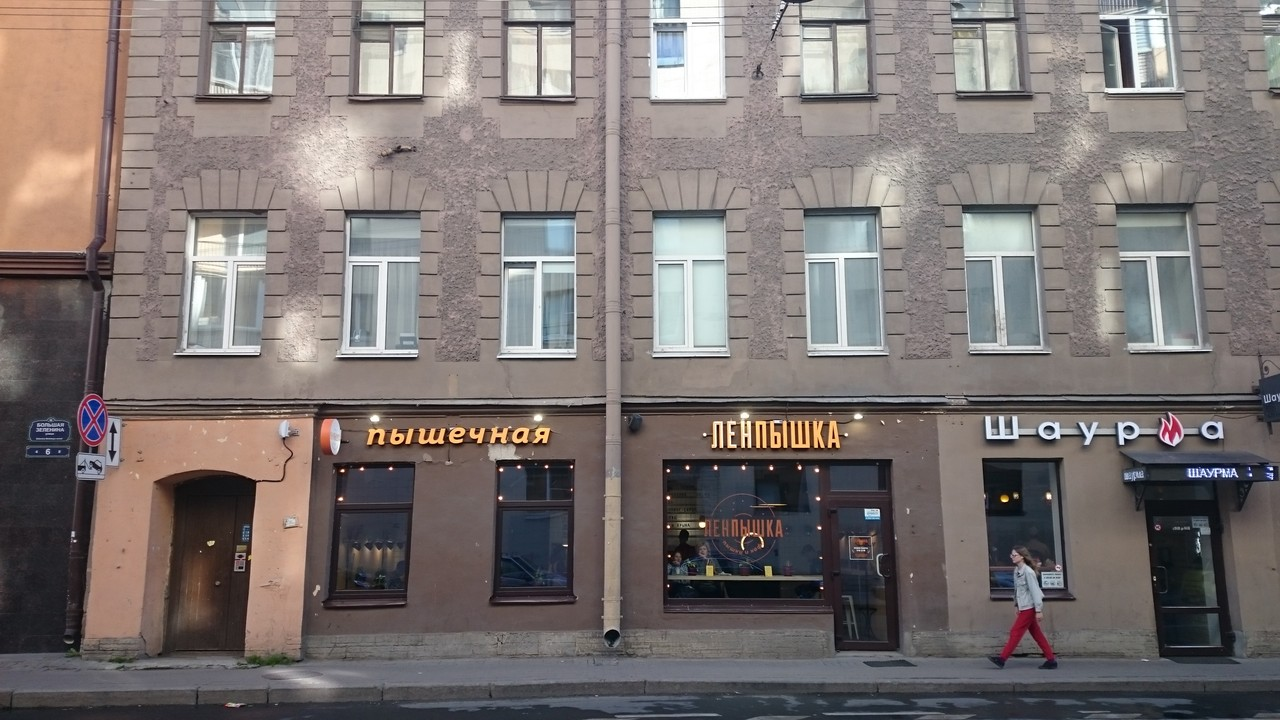cantilever: (321, 417, 344, 457)
door: (162, 474, 257, 658), (1143, 506, 1232, 659), (823, 497, 897, 655)
signboard: (984, 412, 1224, 444), (368, 427, 549, 448), (711, 421, 842, 449)
window: (669, 462, 823, 615), (1112, 205, 1206, 350), (327, 462, 412, 607), (494, 457, 577, 602), (985, 459, 1071, 597), (182, 213, 265, 351), (652, 214, 729, 356), (499, 217, 577, 357), (345, 212, 420, 357), (964, 207, 1036, 356), (806, 209, 873, 355), (1103, 1, 1188, 99), (651, 1, 727, 103), (949, 1, 1027, 98), (802, 1, 873, 100), (502, 1, 573, 99), (207, 1, 276, 94), (361, 1, 422, 97)
